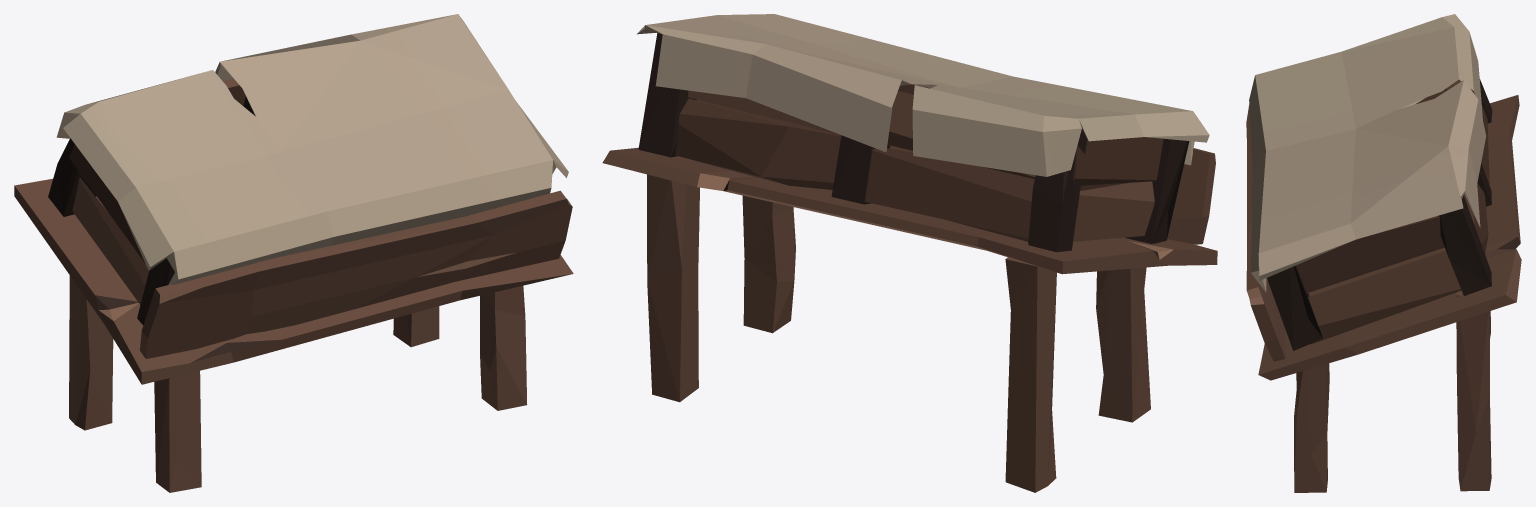
Rendered from SellingGoods_03.glb.
3 views of the same model, side by side, from view 1: azimuth 30°, elevation 25°; view 2: azimuth 150°, elevation 25°; view 3: azimuth 270°, elevation 25° (orthographic). The views are drawn at different scales.
Visible parts, largest first — view 1: SellingGoods_03; view 2: SellingGoods_03; view 3: SellingGoods_03.
Boxes of the visible parts, x1=… form: SellingGoods_03: x1=14, y1=14, x2=573, y2=492; SellingGoods_03: x1=602, y1=14, x2=1217, y2=492; SellingGoods_03: x1=1246, y1=14, x2=1521, y2=492.
Size of what is drawn, in the model's own units: 1.77 by 1.31 by 1.04.
1 material, 1 textured.
